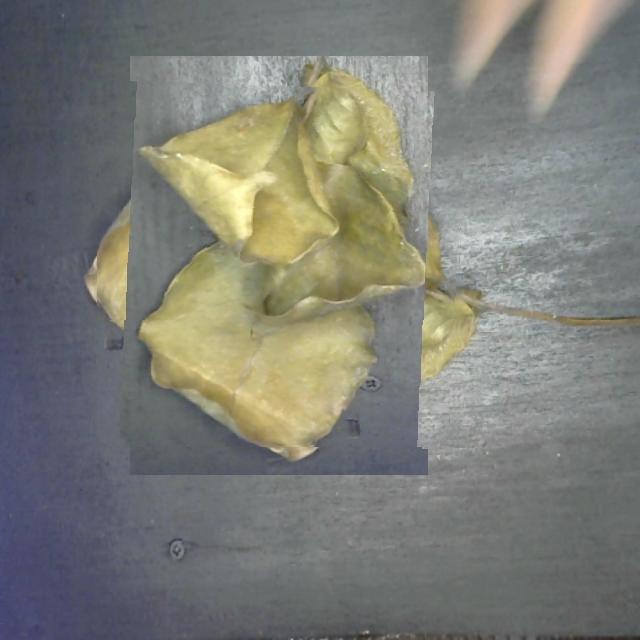biodegradable: (97, 83, 462, 447)
